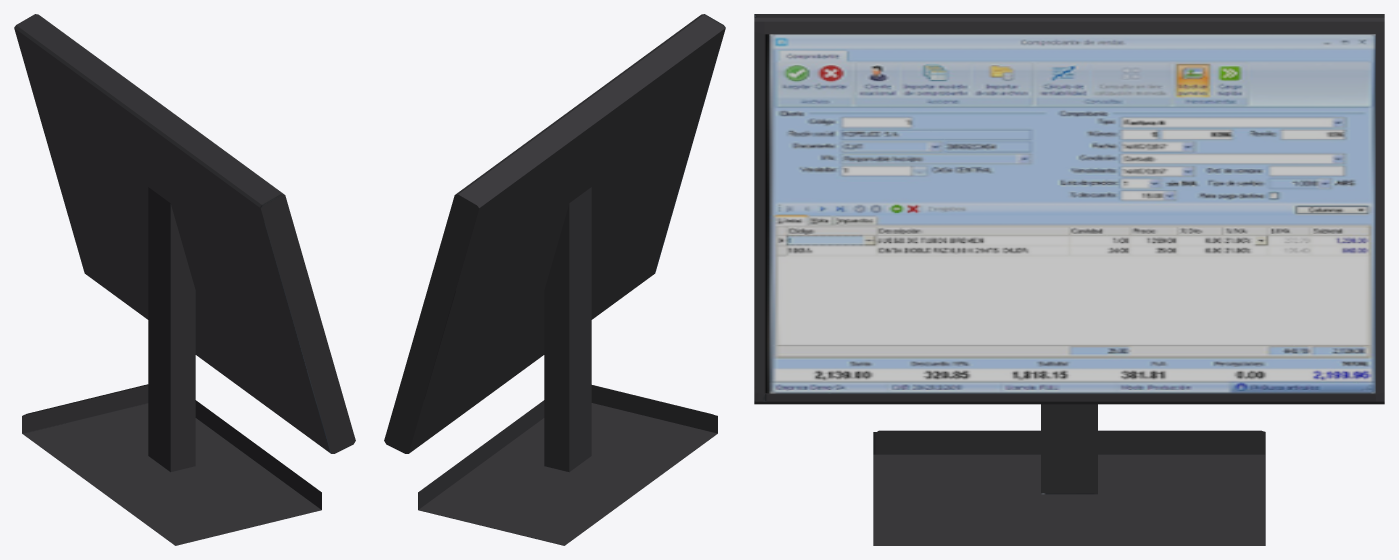
File: caja-monitor.glb
3 renders of one model, left to right at view 1: azimuth 30°, elevation 25°; view 2: azimuth 150°, elevation 25°; view 3: azimuth 270°, elevation 25°, orthographic. The views are drawn at different scales.
Parts seen in each view (by area): view 1: pantalla caja; view 2: pantalla caja; view 3: pantalla caja.
Part boxes in pixels (left/top/right/bottom): pantalla caja: left=14, top=14, right=355, bottom=545; pantalla caja: left=384, top=14, right=725, bottom=545; pantalla caja: left=754, top=14, right=1384, bottom=545.
Size of the model in its own units: 0.6859 by 1.66 by 2.
Materials: 1 (1 with a texture image).
